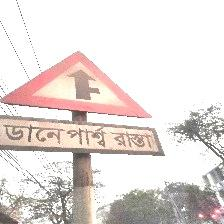Side-road-right: (0, 51, 166, 160)
